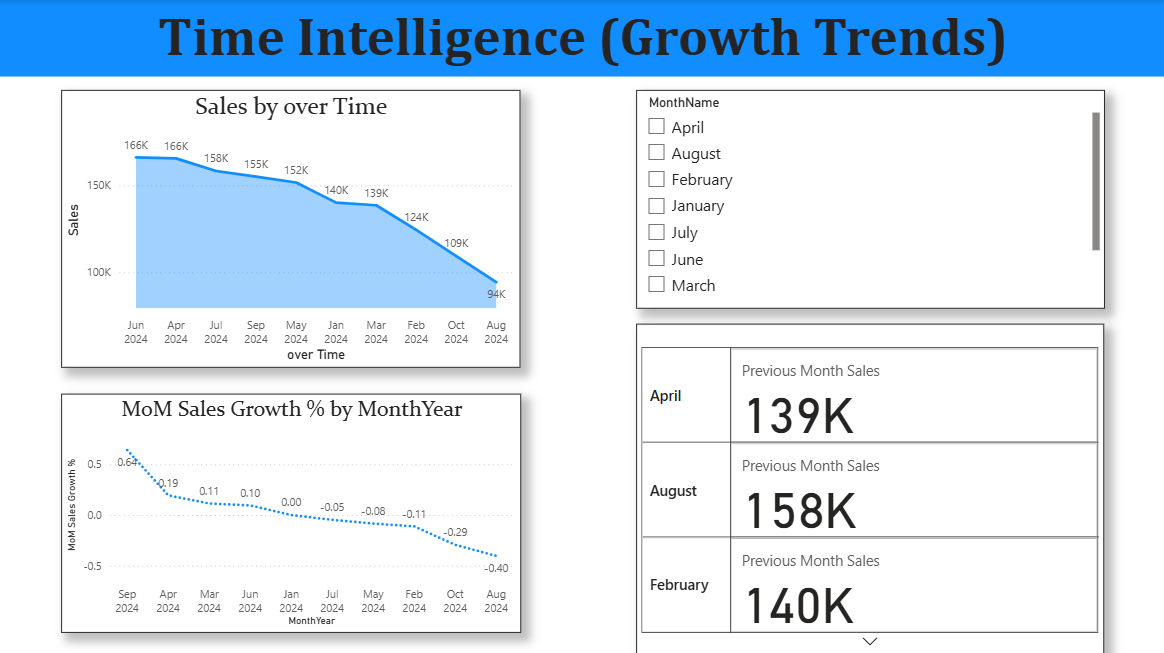

This screenshot's page, from the dashboard's own definition file:
{"tool":"powerbi","page":{"name":"Page 4","canvas":[1280,720],"ordinal":3},"visuals":[{"type":"textbox","box":[0,0,1280.3,83.7],"z":0},{"type":"lineChart","fields":{"Category":["DateTable.MonthYear"],"Y":["Sales_Data.Total Sales"]},"box":[67.2,98.8,503.6,304.6],"z":1000},{"type":"lineChart","fields":{"Category":["DateTable.MonthYear"],"Y":["Sales_Data.MoM Sales Growth %"]},"box":[67.2,432.2,505,262.1],"z":2000},{"type":"cardVisual","fields":{"Data":["Sales_Data.Previous Month Sales"],"Rows":["DateTable.MonthName","DateTable.MonthYear"]},"box":[698.5,355.4,513.2,365],"z":3000},{"type":"slicer","fields":{"Values":["DateTable.MonthName"]},"box":[698.5,98.8,514.6,240.1],"z":4000}]}

Visuals, with their boxes in screenshot pixels (x1, y1, x2, y2), scaled from the page's 1280x720 canvas onto the 1164x653 screenshot:
textbox: bbox=[0, 0, 1163, 76]
lineChart - DateTable.MonthYear x Sales_Data.Total Sales: bbox=[61, 90, 519, 366]
lineChart - DateTable.MonthYear x Sales_Data.MoM Sales Growth %: bbox=[61, 392, 520, 630]
cardVisual - Sales_Data.Previous Month Sales x DateTable.MonthName: bbox=[635, 322, 1102, 652]
slicer - DateTable.MonthName: bbox=[635, 90, 1103, 307]
